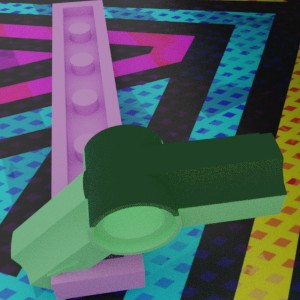lego: (11, 124, 287, 290), (51, 0, 144, 300)
